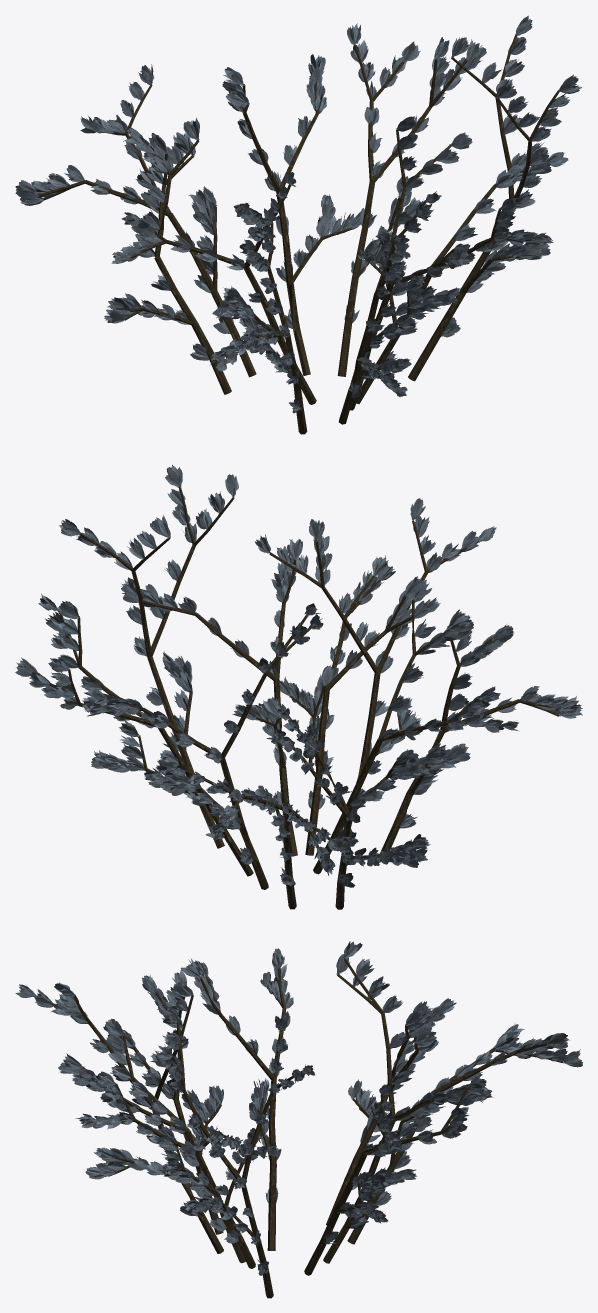
Rendered from sagebrush_grey_v02.fbx.
The picture shows the model from 3 angles, top to bottom: view 1: azimuth 30°, elevation 25°; view 2: azimuth 150°, elevation 25°; view 3: azimuth 270°, elevation 25°; orthographic projection. The views are drawn at different scales.
Parts seen in each view (by area): view 1: sagebrush_grey_v02; view 2: sagebrush_grey_v02; view 3: sagebrush_grey_v02.
Part boxes in pixels (x1=…): sagebrush_grey_v02: x1=15, y1=15, x2=581, y2=434; sagebrush_grey_v02: x1=15, y1=465, x2=582, y2=909; sagebrush_grey_v02: x1=15, y1=941, x2=582, y2=1298.
Bounding box in the file's own units: 109 × 77.07 × 129.
2 materials, 2 textured.
